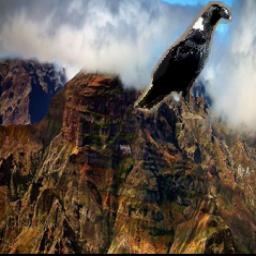Crow: (134, 1, 232, 119)
